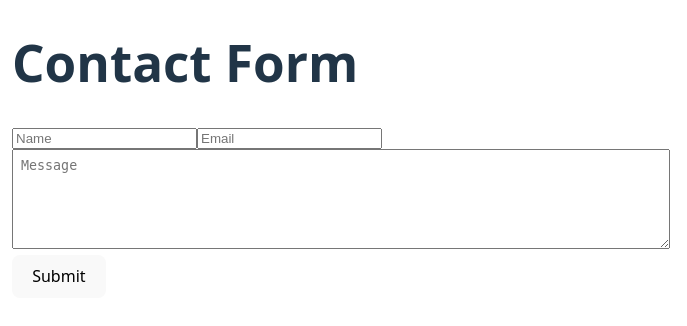
Test: ReactContactForm › displays error message when fields are empty and submit is clicked
Click the button with test id "submit-button" at (59, 276), box [12, 255, 106, 298]
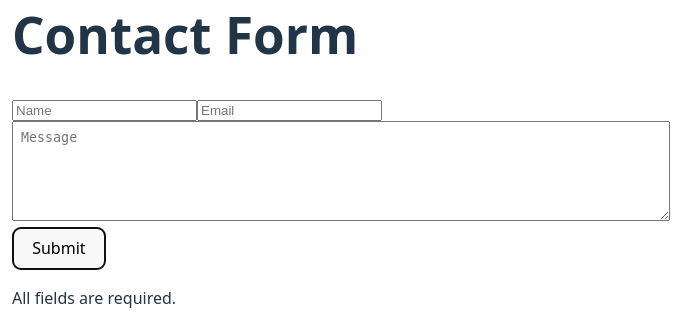
Expected: the text with test id "error-message" reads "All fields are required.", [12, 287, 176, 309]
